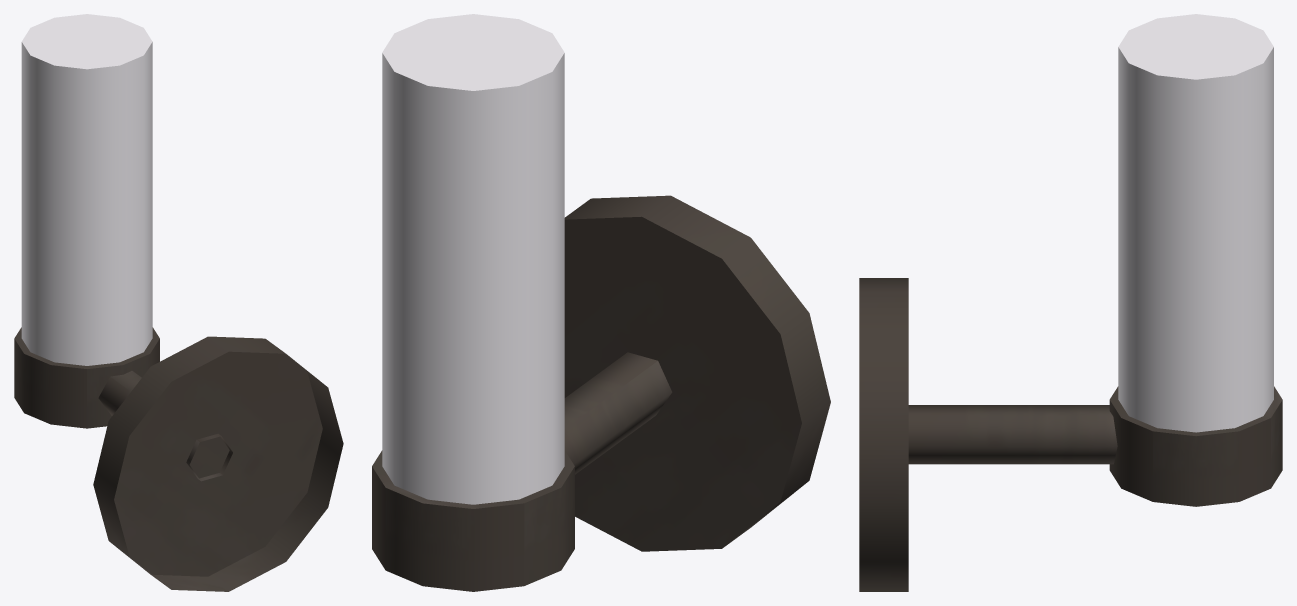
Rendered from sconce_1.fbx.
The picture shows the model from 3 angles, left to right: view 1: azimuth 30°, elevation 25°; view 2: azimuth 150°, elevation 25°; view 3: azimuth 270°, elevation 25°; orthographic projection. The views are drawn at different scales.
Parts seen in each view (by area): view 1: polySurface1121; view 2: polySurface1121; view 3: polySurface1121.
Boxes of the visible parts, x1=… form: polySurface1121: x1=14, y1=14, x2=343, y2=591; polySurface1121: x1=372, y1=14, x2=830, y2=591; polySurface1121: x1=859, y1=14, x2=1282, y2=591.
Bounding box in the file's own units: 18.23 × 33.88 × 24.48.
Materials: 1 (1 with a texture image).
